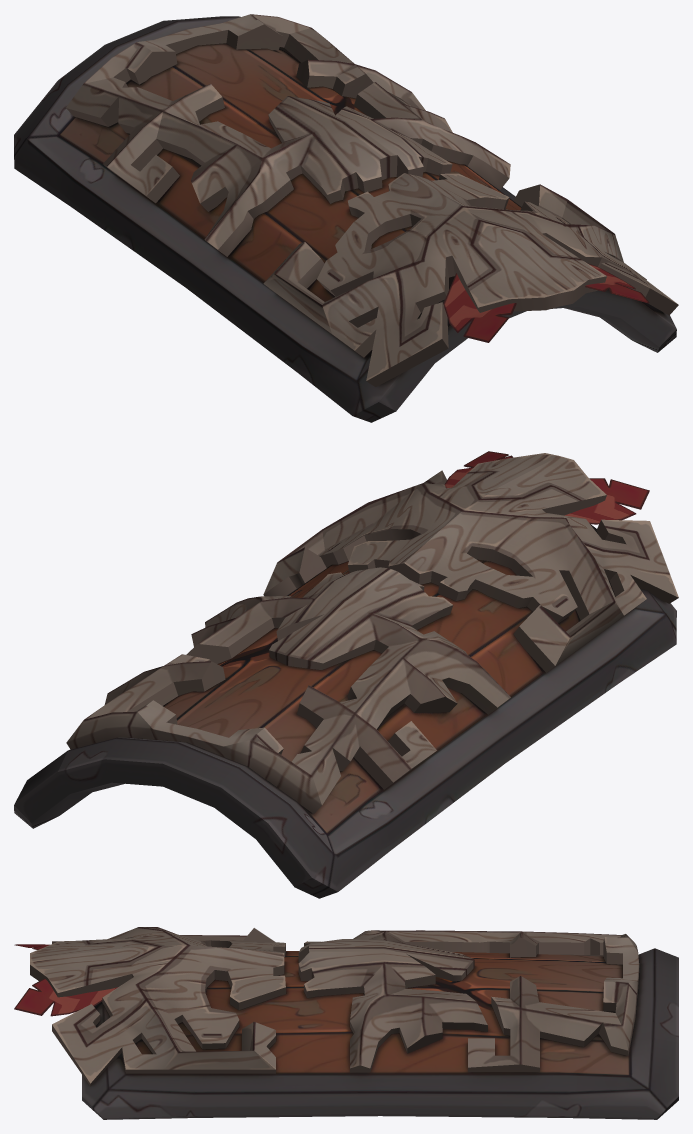
File: MonEquip_Shield_02_Model.fbx
3 views of the same model, one above another, from view 1: azimuth 30°, elevation 25°; view 2: azimuth 150°, elevation 25°; view 3: azimuth 270°, elevation 25° (orthographic). The views are drawn at different scales.
Parts seen in each view (by area): view 1: MonEquip_Shield_02_Model; view 2: MonEquip_Shield_02_Model; view 3: MonEquip_Shield_02_Model.
Boxes of the visible parts, x1,y1,x2,y2 form: MonEquip_Shield_02_Model: (14, 14, 678, 422); MonEquip_Shield_02_Model: (14, 451, 678, 898); MonEquip_Shield_02_Model: (14, 927, 678, 1119).
Size of the model in its own units: 102 by 43.07 by 221.
Materials: 1 (1 with a texture image).
